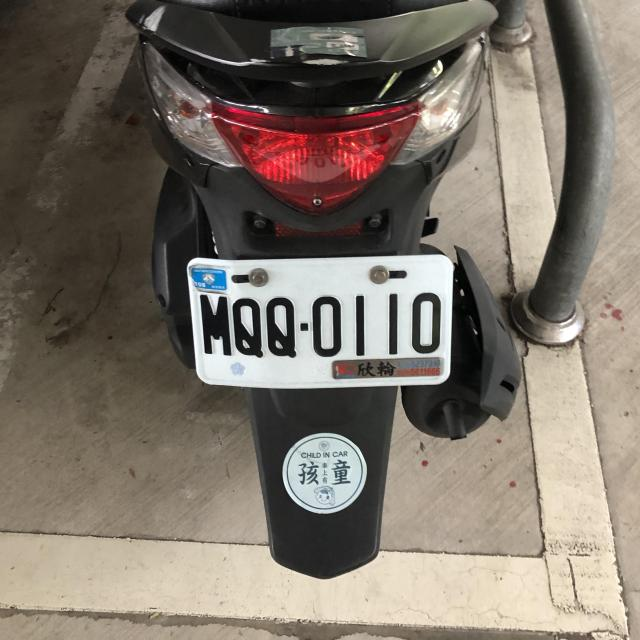W: (180, 249, 454, 393)
